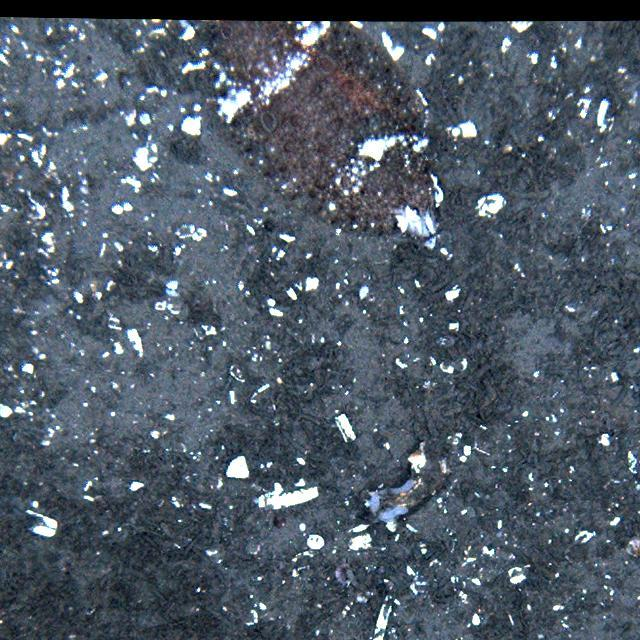flatfish: (180, 15, 440, 243)
